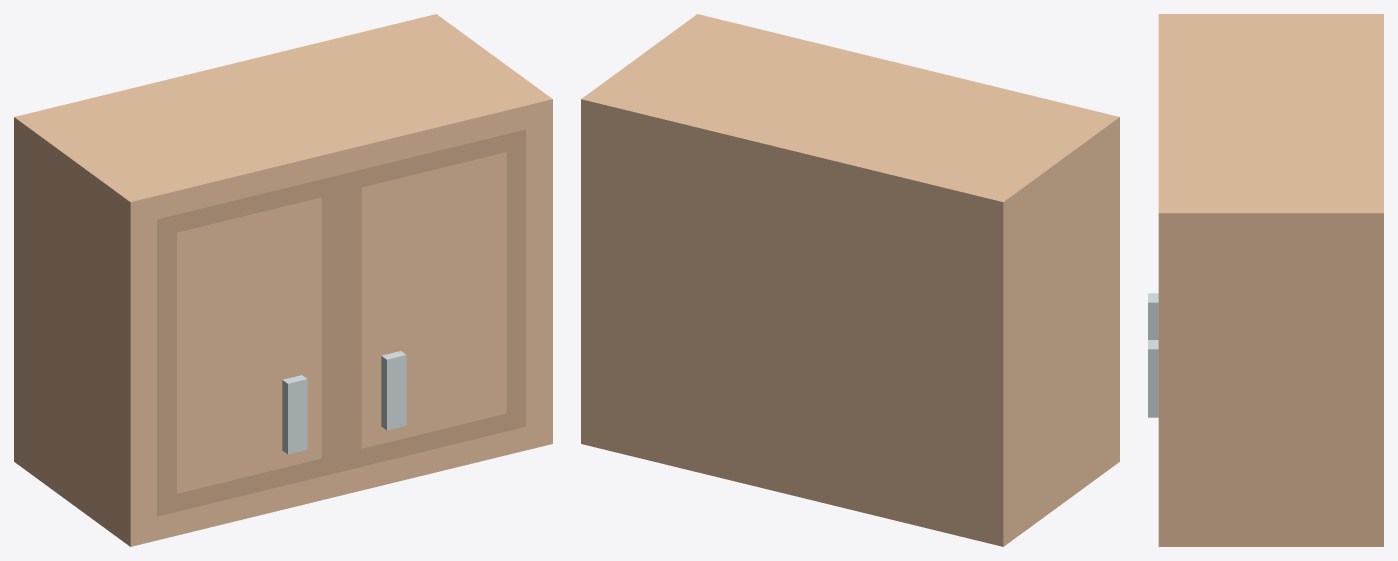
Rendered from kitchenCabinetUpperDouble-col.glb.
3 views of the same model, side by side, from view 1: azimuth 30°, elevation 25°; view 2: azimuth 150°, elevation 25°; view 3: azimuth 270°, elevation 25° (orthographic). The views are drawn at different scales.
Parts seen in each view (by area): view 1: kitchenCabinetUpperDouble-col; view 2: kitchenCabinetUpperDouble-col; view 3: kitchenCabinetUpperDouble-col.
Boxes of the visible parts, left/top/right/bottom form: kitchenCabinetUpperDouble-col: left=14, top=14, right=552, bottom=546; kitchenCabinetUpperDouble-col: left=581, top=14, right=1119, bottom=546; kitchenCabinetUpperDouble-col: left=1148, top=14, right=1383, bottom=546.
Bounding box in the file's own units: 0.5 × 0.39 × 0.25.
